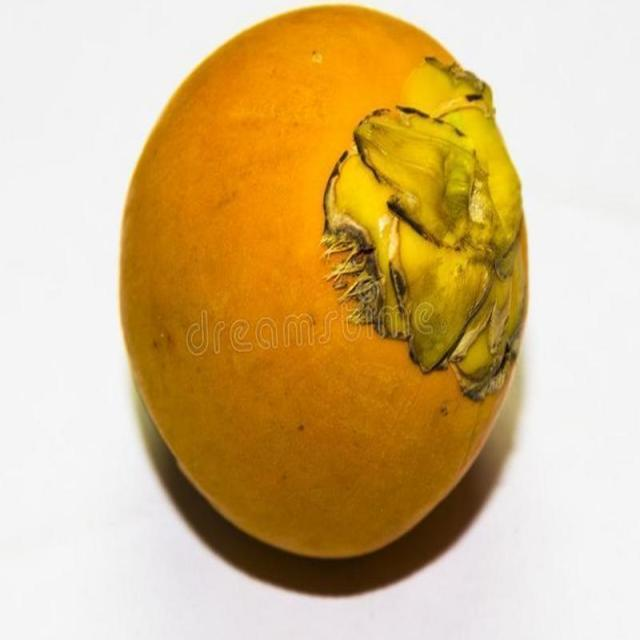good: (123, 10, 530, 562)
